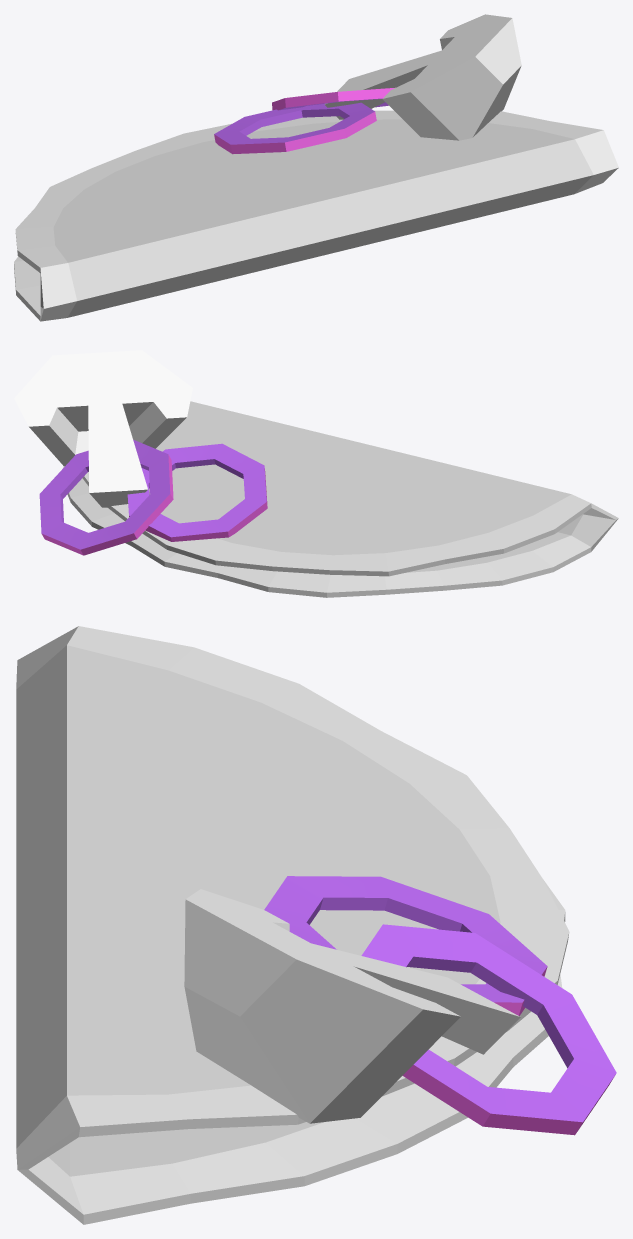
The model's file is Mushroom Onion Omelette.fbx.
3 views of the same model, one above another, from view 1: azimuth 30°, elevation 25°; view 2: azimuth 150°, elevation 25°; view 3: azimuth 270°, elevation 25° (orthographic). The views are drawn at different scales.
Parts seen in each view (by area): view 1: Folded Omelette, mushroomHalf.016, Circle.017, Circle.016; view 2: Folded Omelette, mushroomHalf.016, Circle.016, Circle.017; view 3: Folded Omelette, mushroomHalf.016, Circle.016, Circle.017.
Part boxes in pixels (x1,y1,x2,y2): Folded Omelette: [14, 110, 618, 321]; mushroomHalf.016: [324, 14, 521, 140]; Circle.017: [214, 102, 376, 154]; Circle.016: [272, 87, 395, 110]; Folded Omelette: [63, 401, 618, 597]; mushroomHalf.016: [14, 350, 192, 507]; Circle.016: [39, 439, 173, 555]; Circle.017: [127, 443, 267, 541]; Folded Omelette: [16, 626, 569, 1224]; mushroomHalf.016: [184, 889, 520, 1123]; Circle.016: [361, 924, 616, 1135]; Circle.017: [264, 876, 547, 1016].
Bounding box in the file's own units: 62.15 × 13.44 × 30.74.
